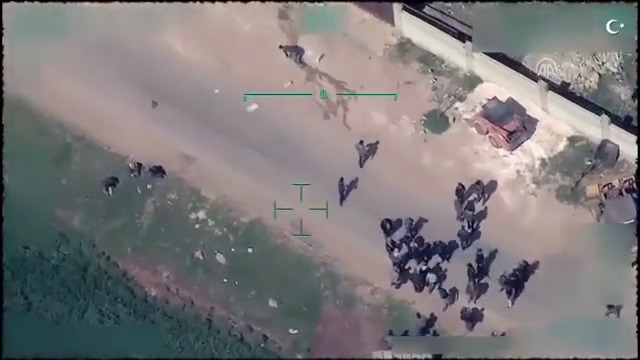arac: (468, 86, 538, 157)
insan: (332, 172, 350, 206), (453, 223, 473, 251), (352, 137, 370, 167), (476, 248, 491, 276), (436, 285, 452, 311), (453, 181, 466, 210)
